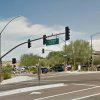Crosswalk: (11, 70, 100, 100)
